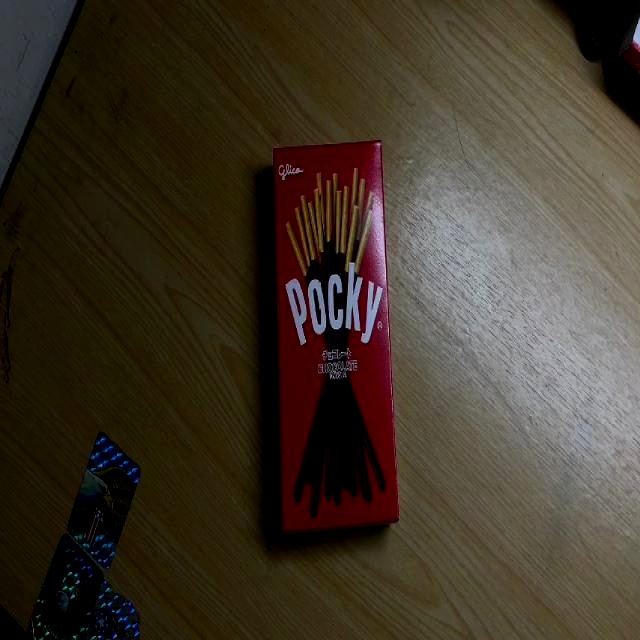Pocky: (272, 137, 401, 540)
